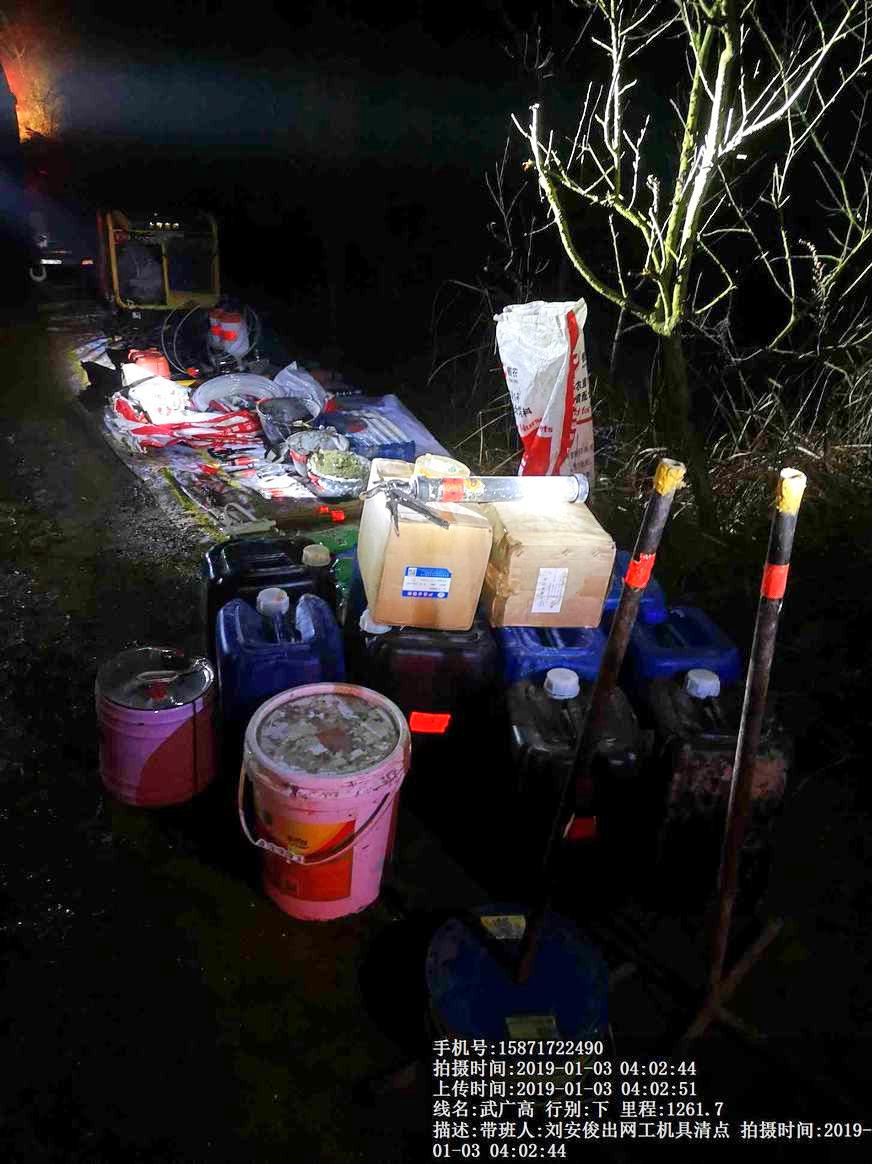BZD: (498, 294, 618, 475)
SLT: (493, 676, 593, 798), (203, 593, 327, 676)
